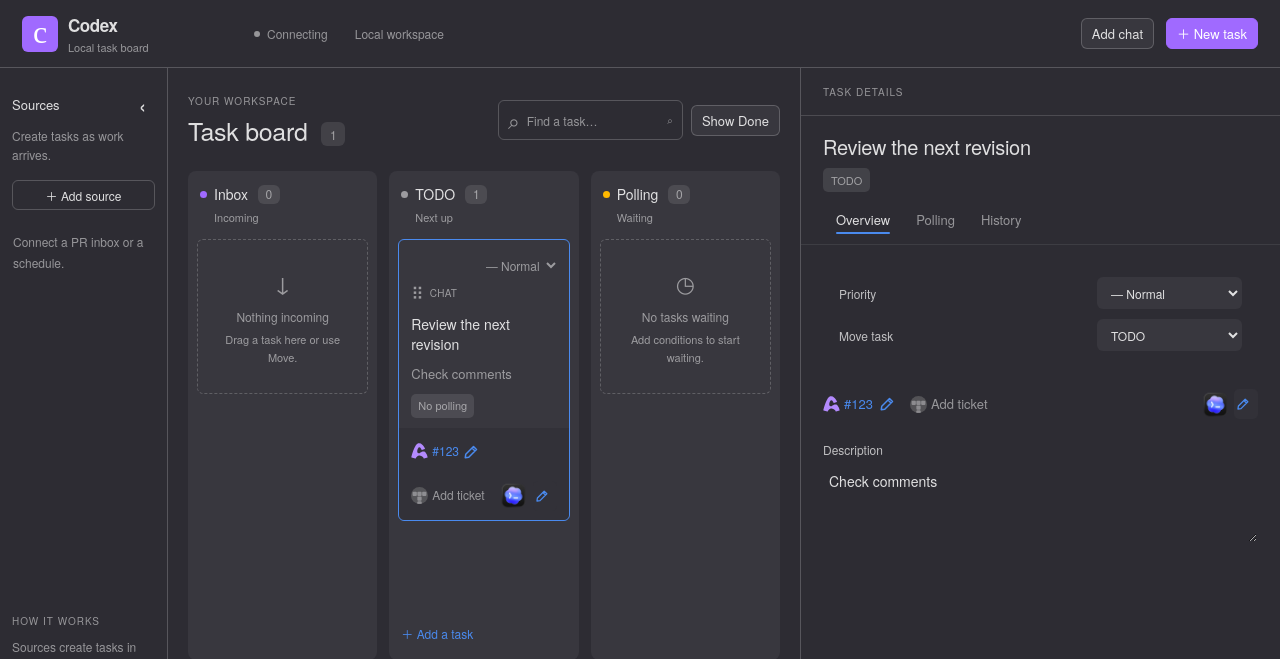
serializes a PR change after a pending owned Overview save
Replace the text in the text box named "Title" with "Saved Overview title" at (1040, 146), box x1=823 y1=132 x2=1258 y2=161
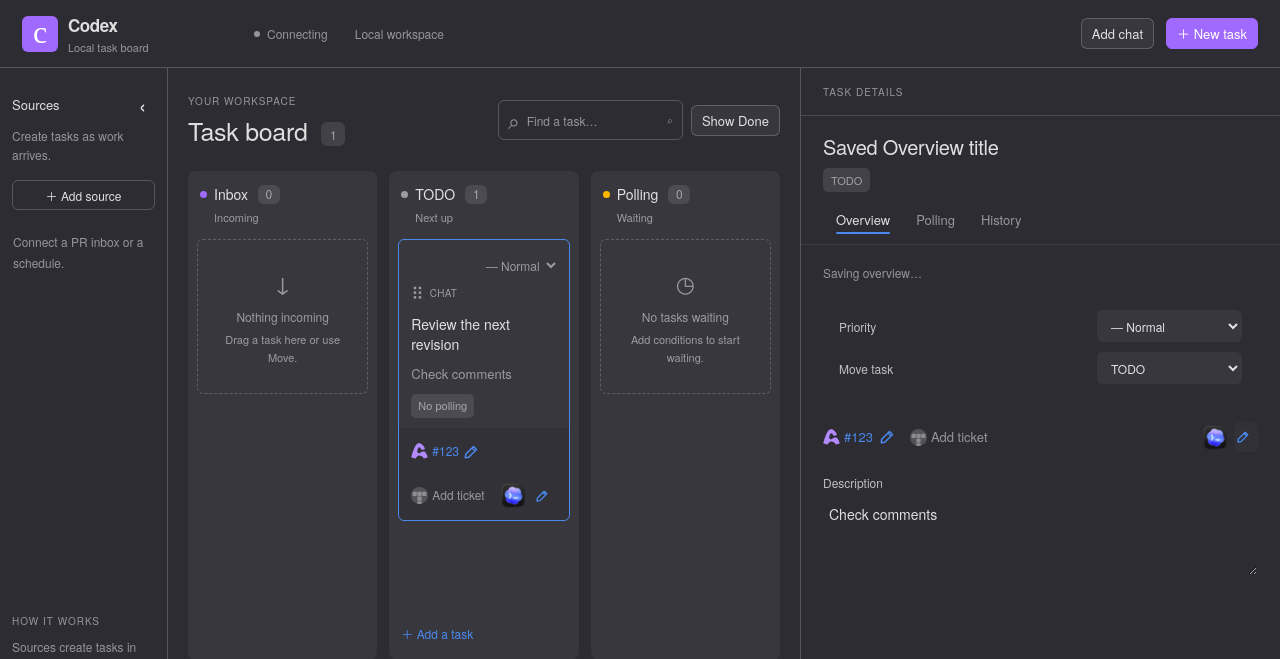
Click the button named "Edit PR" below "Move task" at (891, 437), box x1=879 y1=425 x2=903 y2=449
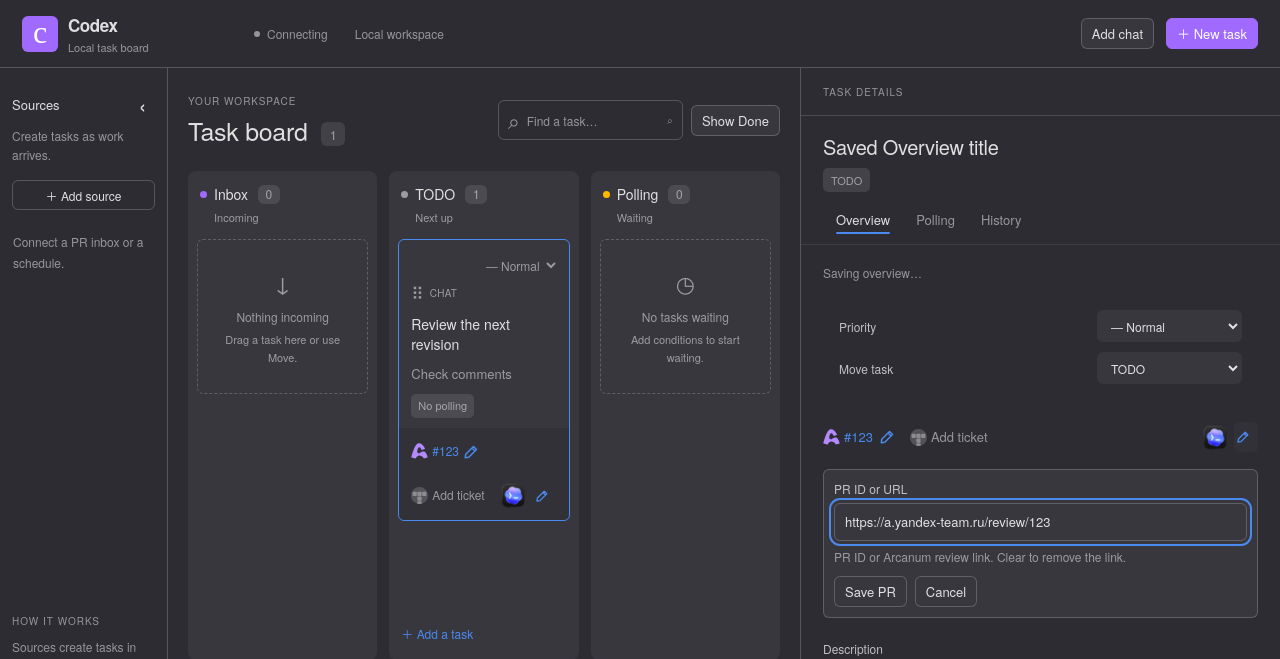
Replace the text in the field labelled "PR ID or URL" with "124" at (1040, 522), box x1=834 y1=503 x2=1247 y2=541
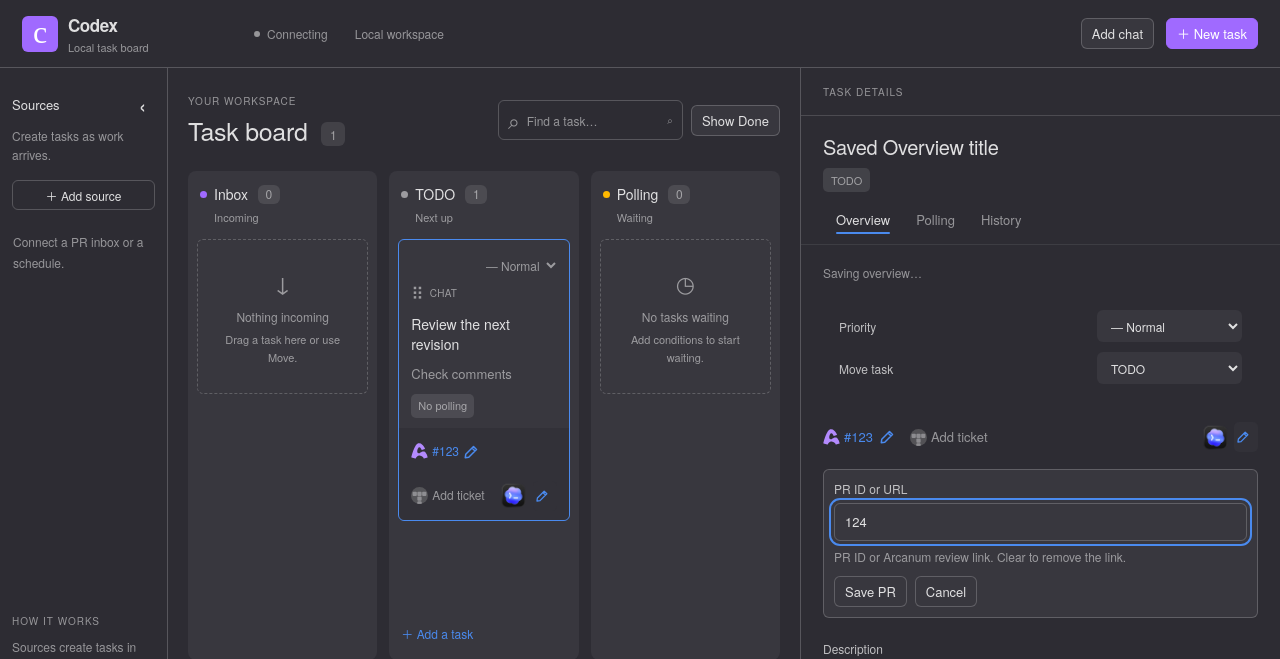
Click the button "Save PR" at (870, 592), box x1=834 y1=576 x2=907 y2=608
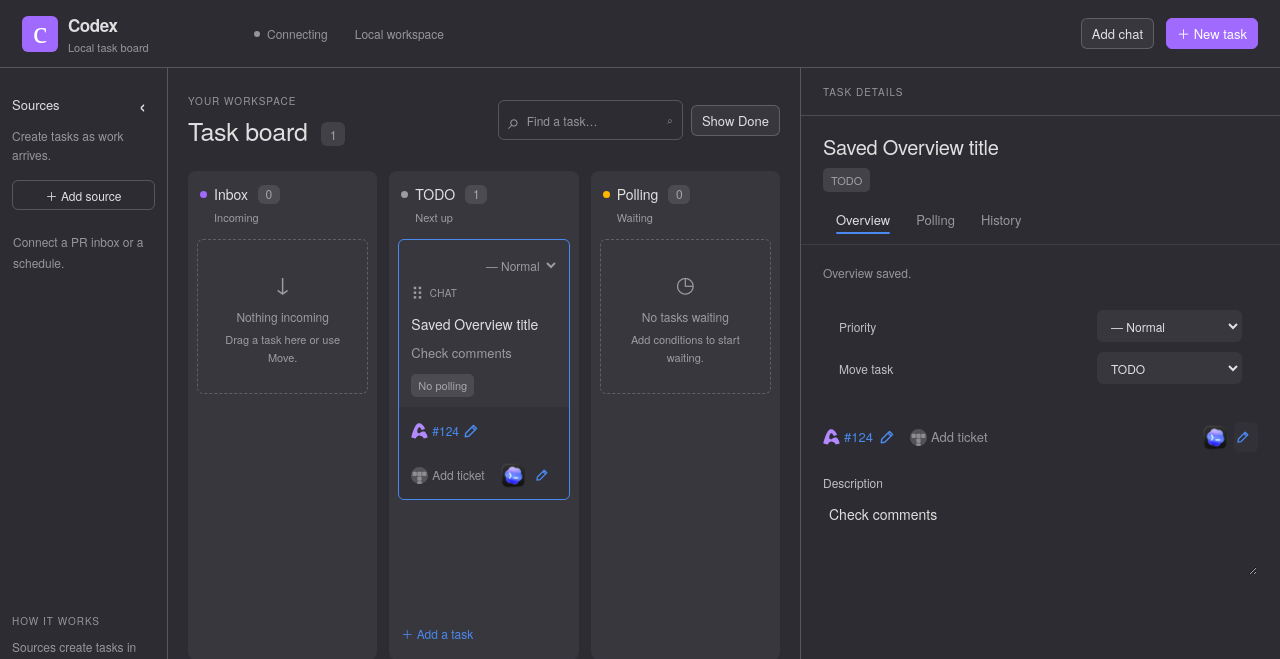
Check: the text "Saved Overview title" is shown, box x1=411 y1=314 x2=538 y2=334
